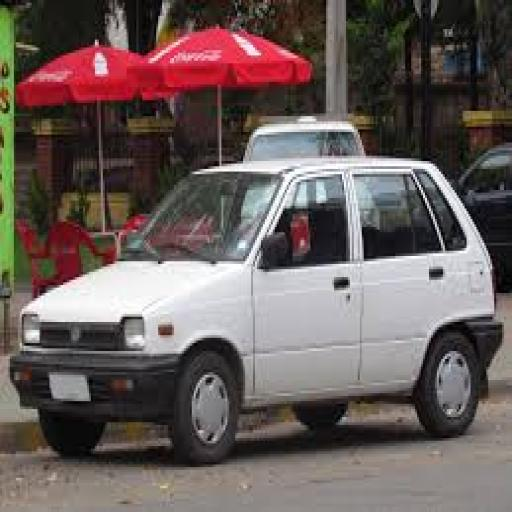License: (45, 368, 97, 404)
